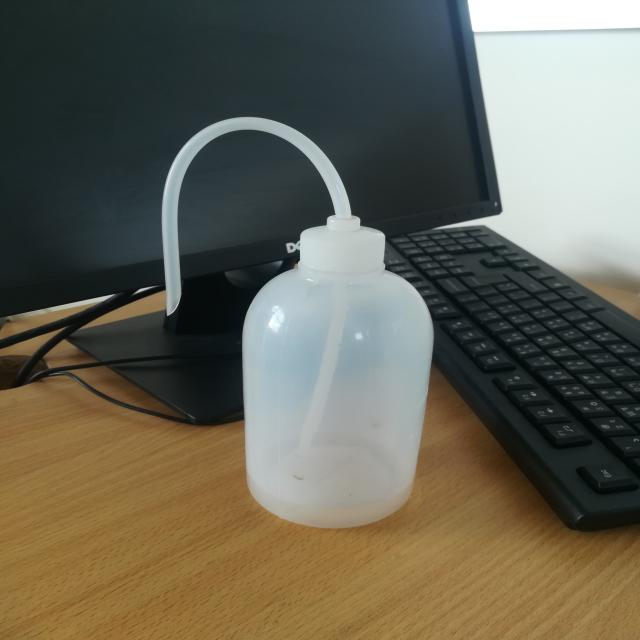Wash_Bottle: (110, 82, 478, 559)
